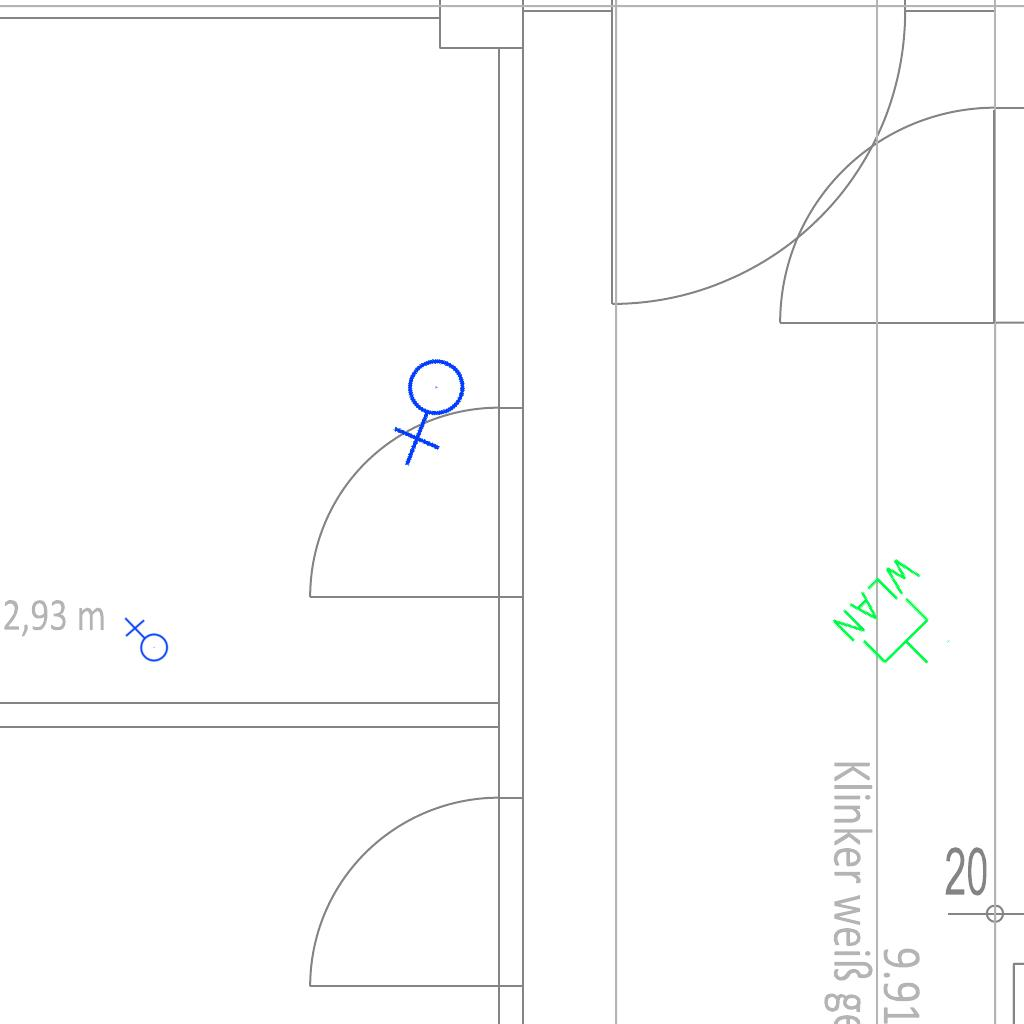Elektroanschluss_allgemein_230V_Geraeteanschlussdose_230V: (367, 344, 498, 472), (122, 617, 169, 666)
WLAN: (826, 547, 974, 696)
